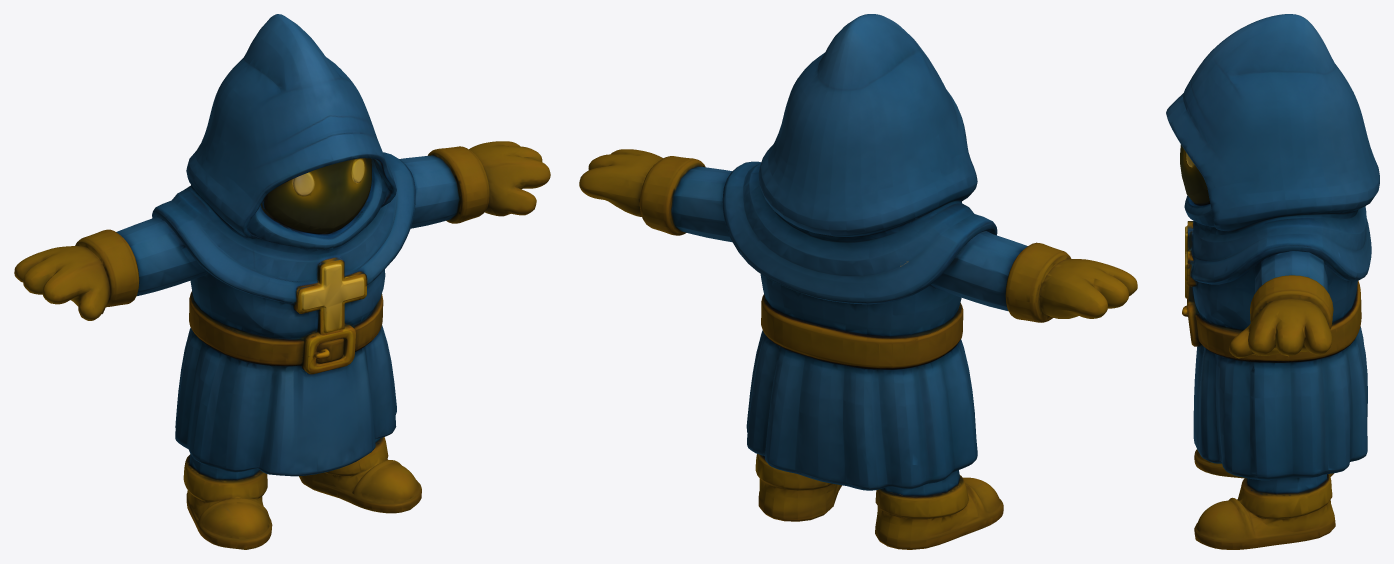
Rendered from healer2.fbx.
3 renders of one model, left to right at view 1: azimuth 30°, elevation 25°; view 2: azimuth 150°, elevation 25°; view 3: azimuth 270°, elevation 25°, orthographic. The views are drawn at different scales.
Visible parts, largest first — view 1: material; view 2: material; view 3: material.
Part boxes in pixels (<box>): material: <box>14,14,550,549</box>; material: <box>579,14,1137,549</box>; material: <box>1166,14,1379,549</box>.
Bounding box in the file's own units: 119 × 106 × 42.15.
Materials: 1 (1 with a texture image).
